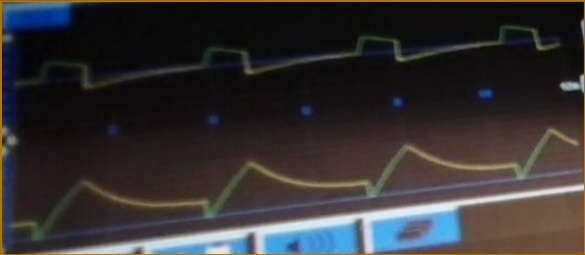Flow: (17, 24, 559, 91)
Leakage Volume: (17, 128, 579, 243)
